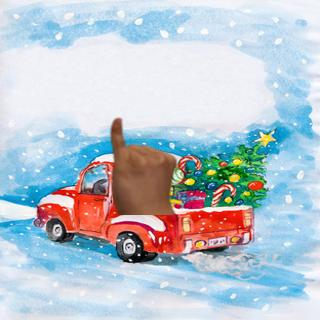FINE: (105, 114, 180, 212)
